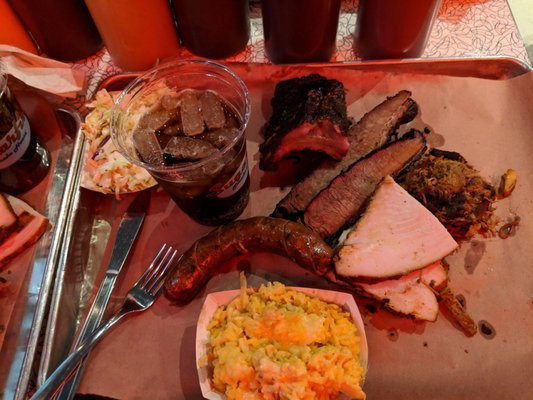pizza: (354, 0, 444, 60), (261, 0, 343, 65), (169, 0, 251, 60)
sandwich: (7, 104, 89, 399), (56, 189, 154, 378)
sushi: (82, 56, 253, 226)
